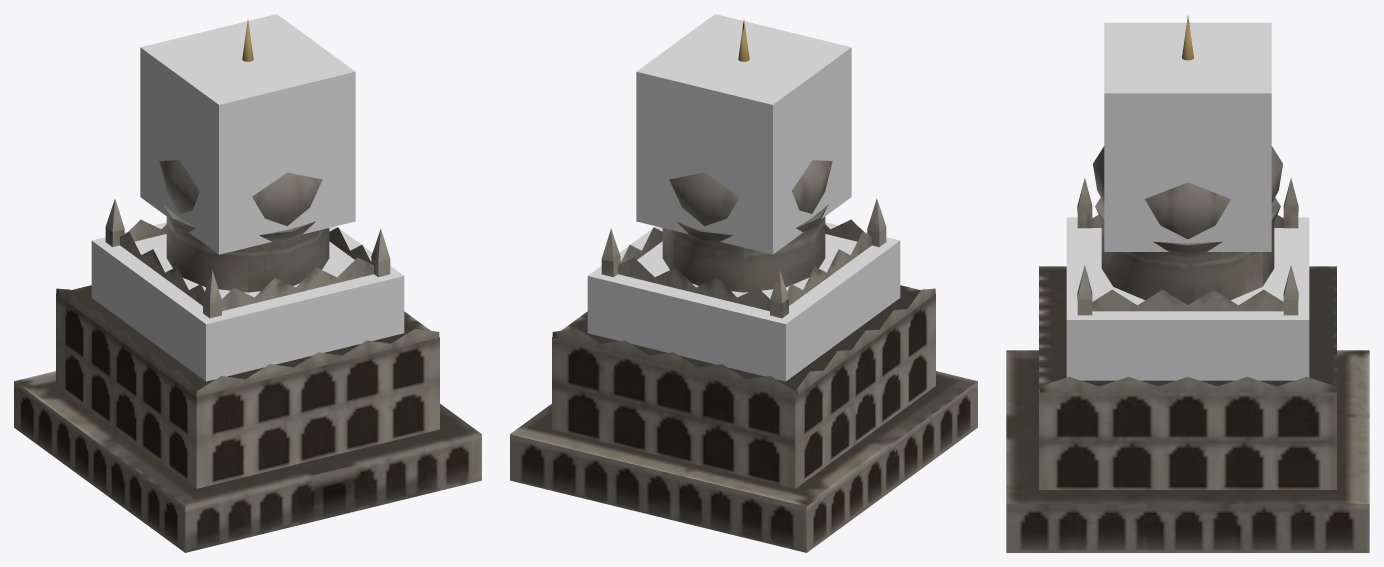
Rendered from qutb_tomb.glb.
3 views of the same model, side by side, from view 1: azimuth 30°, elevation 25°; view 2: azimuth 150°, elevation 25°; view 3: azimuth 270°, elevation 25° (orthographic). The views are drawn at different scales.
Visible parts, largest first — view 1: qutb_tomb_body, var_b, COL_qt_dome, COL_qt_body; view 2: qutb_tomb_body, var_b, COL_qt_dome, COL_qt_body; view 3: qutb_tomb_body, var_b, COL_qt_dome, COL_qt_body.
Boxes of the visible parts, x1,y1,x2,y2 form: qutb_tomb_body: [14, 19, 481, 552]; var_b: [56, 285, 439, 488]; COL_qt_dome: [140, 14, 355, 254]; COL_qt_body: [91, 222, 404, 381]; qutb_tomb_body: [510, 19, 977, 552]; var_b: [552, 285, 935, 488]; COL_qt_dome: [636, 14, 851, 254]; COL_qt_body: [587, 222, 900, 381]; qutb_tomb_body: [1006, 15, 1369, 552]; var_b: [1039, 266, 1336, 489]; COL_qt_dome: [1104, 22, 1271, 251]; COL_qt_body: [1066, 217, 1309, 380].
Bounding box in the file's own units: 53.9 × 75.7 × 53.9.
Materials: 1 (1 with a texture image).
